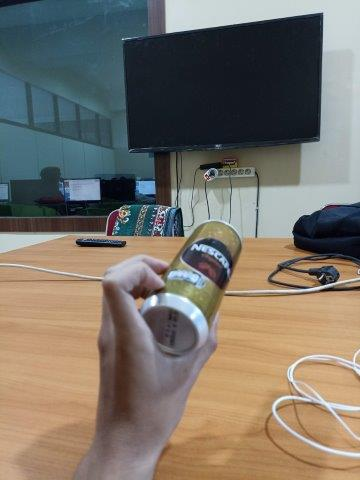kaleng: (141, 219, 243, 356)
